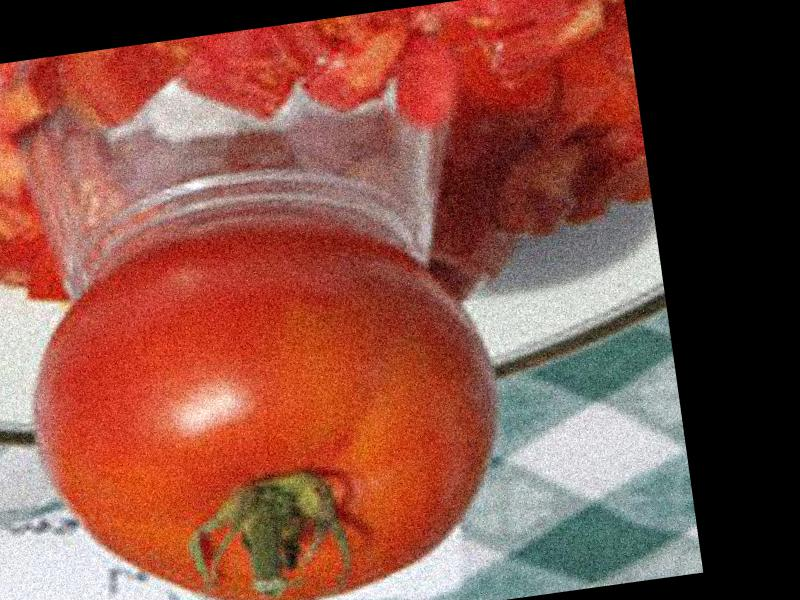Tomato: (7, 195, 523, 600)
